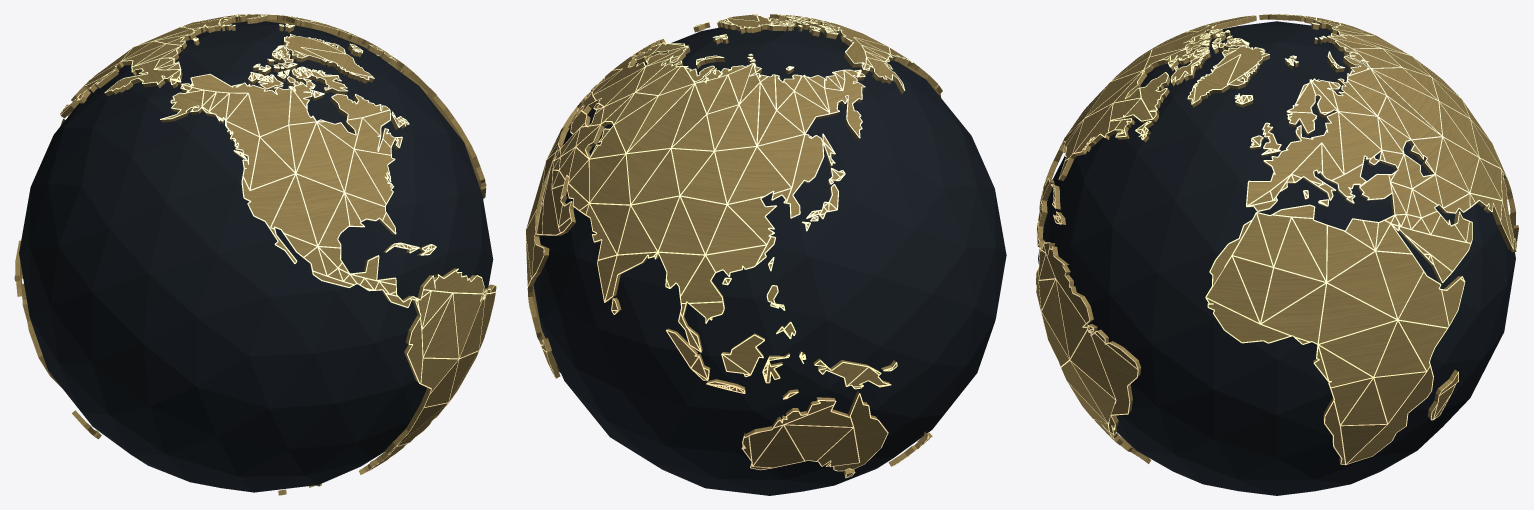
File: atlas_globe_v17.glb
The picture shows the model from 3 angles, left to right: view 1: azimuth 30°, elevation 25°; view 2: azimuth 150°, elevation 25°; view 3: azimuth 270°, elevation 25°; orthographic projection.
Parts seen in each view (by area): view 1: AtlasGlobeScene; view 2: AtlasGlobeScene; view 3: AtlasGlobeScene.
Part boxes in pixels (left/top/right/bottom): AtlasGlobeScene: left=14, top=14, right=496, bottom=495; AtlasGlobeScene: left=525, top=14, right=1006, bottom=495; AtlasGlobeScene: left=1035, top=14, right=1518, bottom=495.
Bounding box in the file's own units: 2.02 × 2.03 × 2.03.
3 materials, 1 textured.
